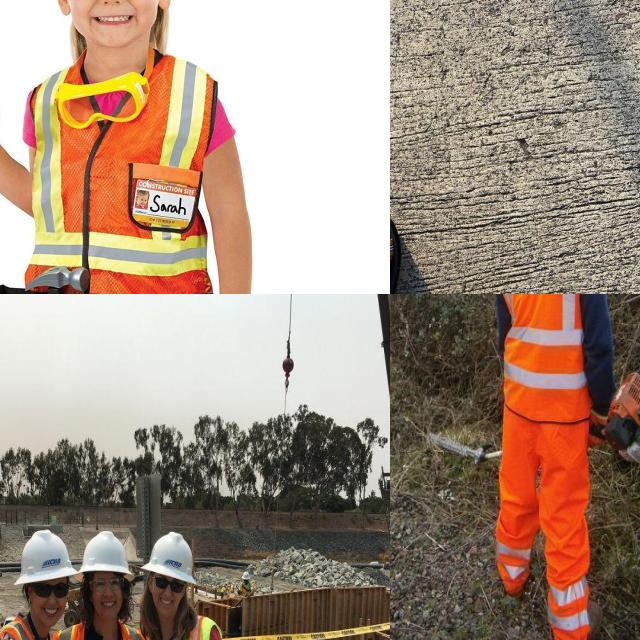No_Ear-Protection: (47, 0, 72, 17), (154, 0, 179, 15)
face_nomask: (53, 0, 170, 49), (32, 577, 70, 623), (91, 568, 125, 616), (155, 570, 183, 612)
glasses: (88, 571, 127, 595), (31, 580, 70, 602), (150, 574, 187, 596)
head_helmet: (13, 530, 78, 584), (141, 531, 198, 585), (80, 531, 134, 582)
person: (0, 0, 259, 294), (492, 294, 615, 640), (140, 529, 243, 640), (0, 529, 73, 640), (69, 531, 142, 640)
vest: (25, 60, 227, 294), (497, 294, 595, 420)
